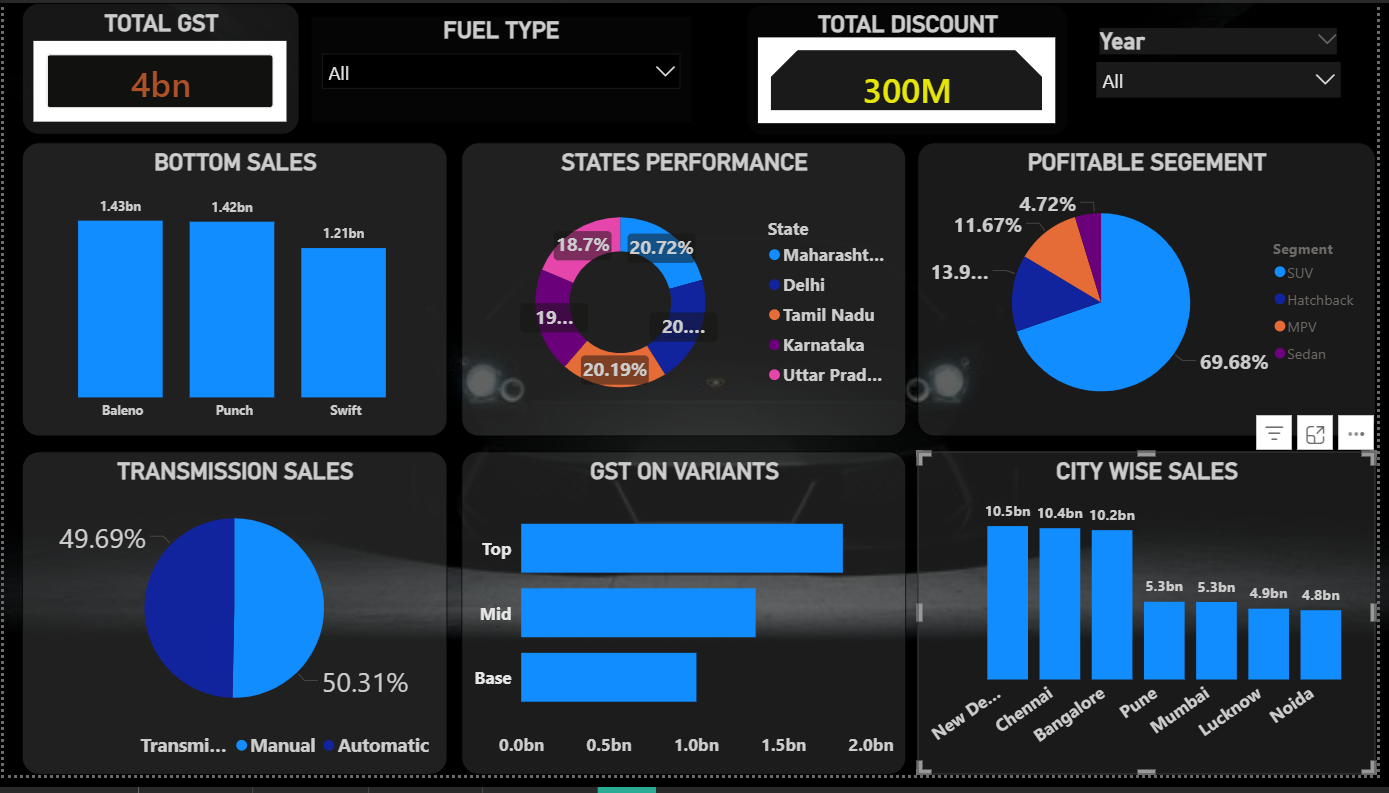

The dashboard page shown, as its layout file describes it:
{"tool":"powerbi","page":{"name":"Page 2","canvas":[1280,720],"ordinal":1},"visuals":[{"type":"columnChart","title":"BOTTOM SALES","fields":{"Category":["India Car Sales Professional.Model"],"Y":["Sum(India Car Sales Professional.Total Price )"]},"box":[16.7,130.2,396.7,274.1],"z":0},{"type":"pieChart","title":"TRANSMISSION SALES","fields":{"Category":["India Car Sales Professional.Transmission"],"Y":["Sum(India Car Sales Professional.Total Price )"]},"box":[16.7,417.9,396.7,301.3],"z":1000},{"type":"donutChart","title":"STATES PERFORMANCE","fields":{"Category":["India Car Sales Professional.State"],"Y":["Sum(India Car Sales Professional.Total Price )"]},"box":[427,130.2,414.9,274.1],"z":2000},{"type":"cardVisual","title":"TOTAL GST","fields":{"Data":["Sum(India Car Sales Professional.GST_Amount)"]},"box":[16.7,0,258.9,122.7],"z":3000},{"type":"slicer","title":"FUEL TYPE","fields":{"Values":["India Car Sales Professional.Fuel_Type"]},"box":[286.2,12.1,354.3,98.4],"z":4000},{"type":"barChart","title":"GST ON VARIANTS","fields":{"Category":["India Car Sales Professional.Variant"],"Y":["Sum(India Car Sales Professional.GST_Amount)"]},"box":[427,417.9,414.9,301.3],"z":5000},{"type":"pieChart","title":"POFITABLE SEGEMENT","fields":{"Category":["India Car Sales Professional.Segment"],"Y":["Sum(India Car Sales Professional.Profit)"]},"box":[852.5,130.2,427,274.1],"z":6000},{"type":"columnChart","title":"CITY WISE SALES","fields":{"Category":["India Car Sales Professional.City"],"Y":["Sum(India Car Sales Professional.Total Price )"]},"box":[852,418,427,301],"z":7000},{"type":"cardVisual","title":"TOTAL DISCOUNT","fields":{"Data":["Sum(India Car Sales Professional.Discount)"]},"box":[692,1.5,299.8,122.7],"z":8000},{"type":"slicer","fields":{"Values":["India Car Sales Professional.Year"]},"box":[1002.4,12.1,258.9,89.3],"z":9000}]}

Visuals, with their boxes in screenshot pixels (x1, y1, x2, y2), scaled from the page's 1280x720 canvas onto the 1389x793 screenshot:
"BOTTOM SALES" columnChart: bbox=[18, 143, 449, 445]
"TRANSMISSION SALES" pieChart: bbox=[18, 460, 449, 792]
"STATES PERFORMANCE" donutChart: bbox=[463, 143, 914, 445]
"TOTAL GST" cardVisual: bbox=[18, 0, 299, 135]
"FUEL TYPE" slicer: bbox=[311, 13, 695, 122]
"GST ON VARIANTS" barChart: bbox=[463, 460, 914, 792]
"POFITABLE SEGEMENT" pieChart: bbox=[925, 143, 1388, 445]
"CITY WISE SALES" columnChart: bbox=[925, 460, 1388, 792]
"TOTAL DISCOUNT" cardVisual: bbox=[751, 2, 1076, 137]
slicer - India Car Sales Professional.Year: bbox=[1088, 13, 1369, 112]
